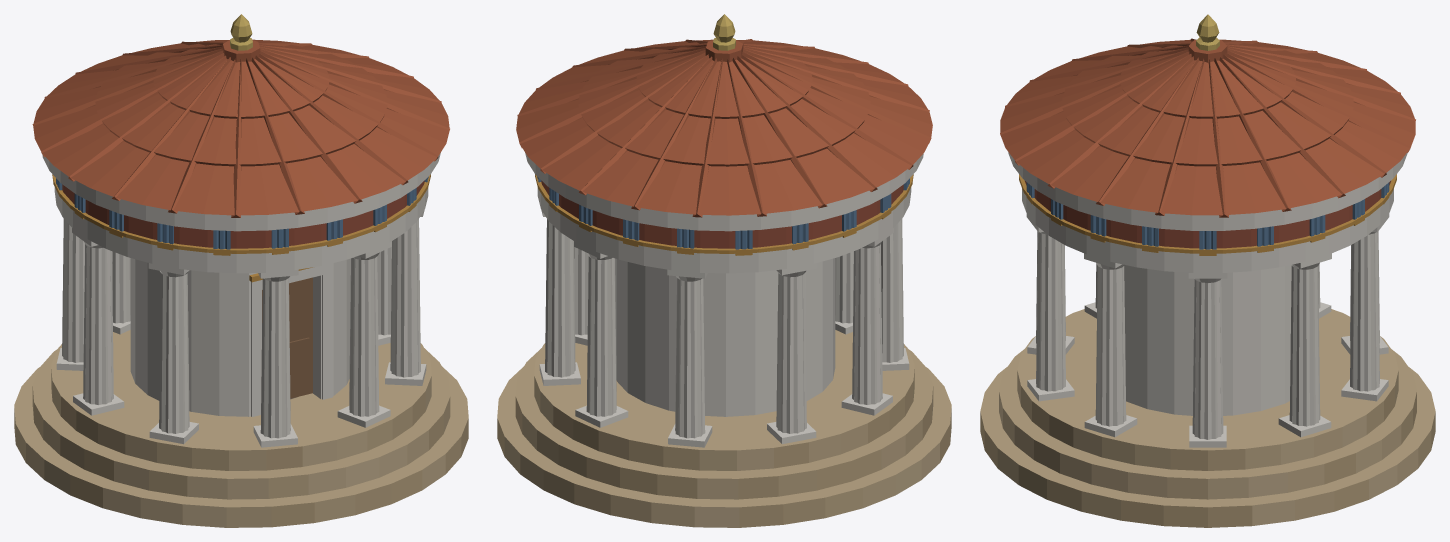
File: round-tholos-c5c20e.glb
3 views of the same model, side by side, from view 1: azimuth 30°, elevation 25°; view 2: azimuth 150°, elevation 25°; view 3: azimuth 270°, elevation 25° (orthographic).
Parts seen in each view (by area): view 1: tholos-body, door-right-leaf; view 2: tholos-body; view 3: tholos-body.
Part boxes in pixels (bbox=[...]): tholos-body: bbox=[14, 14, 468, 527]; door-right-leaf: bbox=[289, 277, 312, 398]; tholos-body: bbox=[497, 14, 951, 527]; tholos-body: bbox=[980, 14, 1435, 527].
Bounding box in the file's own units: 8 × 8.1 × 8.
